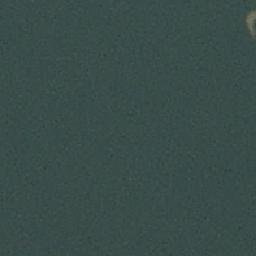debris: (245, 9, 255, 34)
